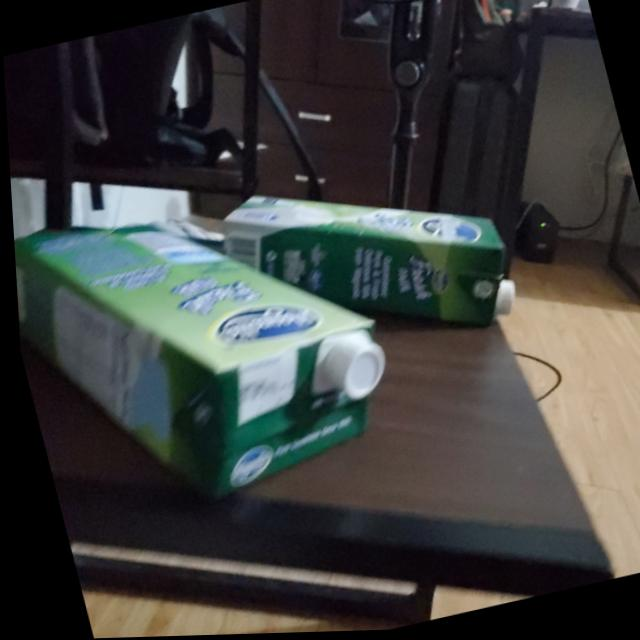milk: (8, 157, 419, 532), (209, 148, 531, 384)
